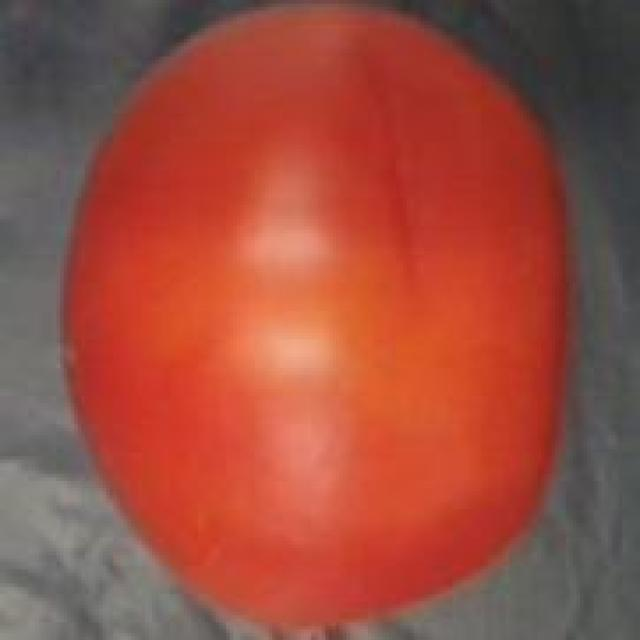ripe tomato: (49, 3, 583, 640)
